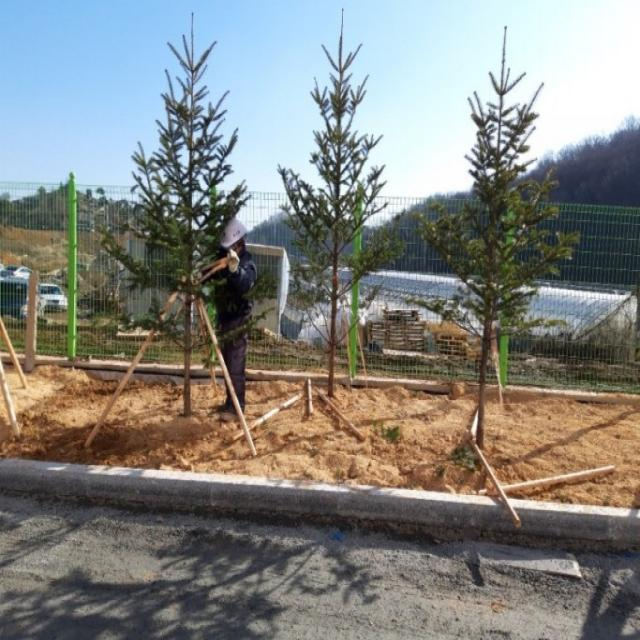plant: (95, 11, 282, 413), (403, 26, 579, 447), (277, 8, 412, 395)
wood: (84, 276, 186, 448), (198, 297, 258, 457), (468, 439, 521, 528), (229, 394, 302, 443), (502, 466, 614, 492), (314, 386, 366, 442), (0, 316, 28, 389), (0, 357, 20, 437), (307, 378, 313, 413)
